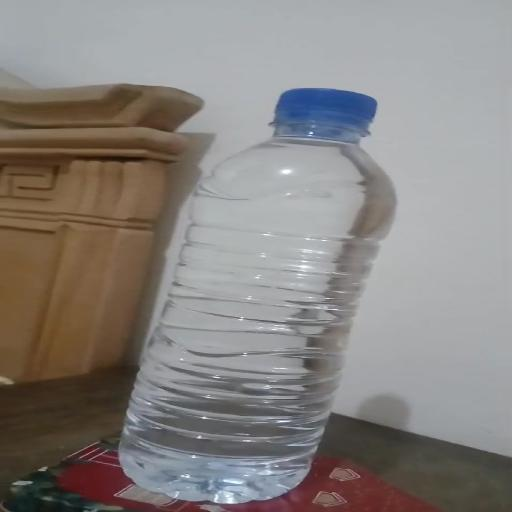bouteille non conformite: (100, 66, 388, 496)
